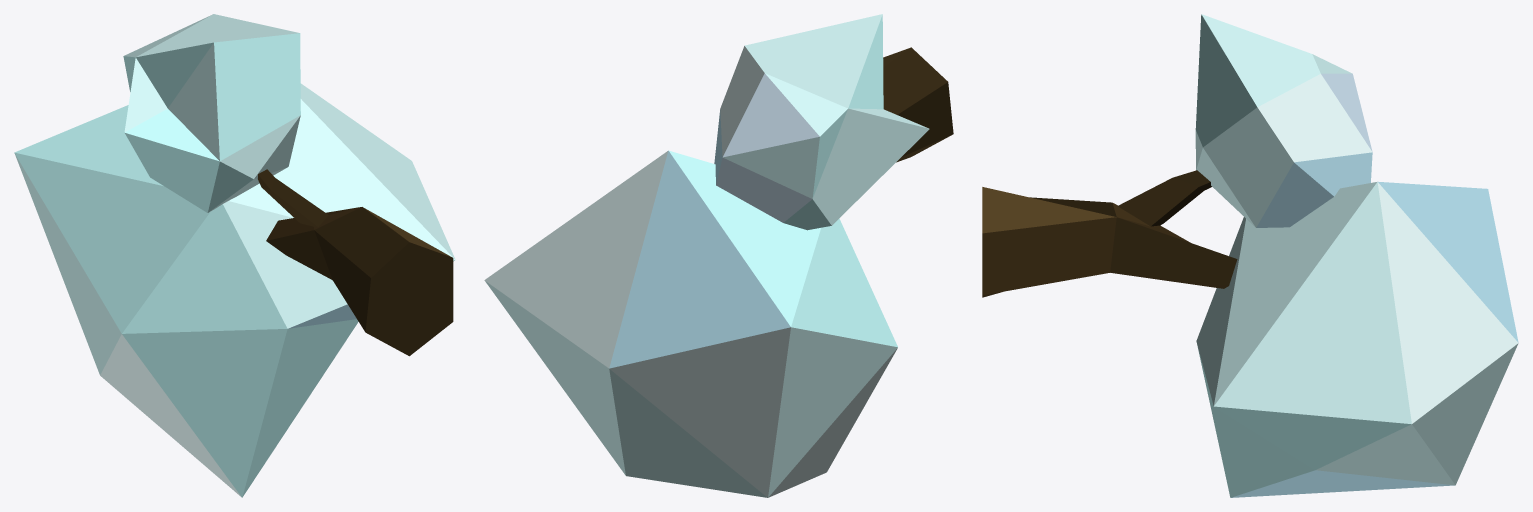
The model's file is winter_tree_6.fbx.
3 views of the same model, side by side, from view 1: azimuth 30°, elevation 25°; view 2: azimuth 150°, elevation 25°; view 3: azimuth 270°, elevation 25° (orthographic). The views are drawn at different scales.
Visible parts, largest first — view 1: winter_tree_6; view 2: winter_tree_6; view 3: winter_tree_6.
Boxes of the visible parts, x1=… form: winter_tree_6: x1=14, y1=14, x2=455, y2=497; winter_tree_6: x1=484, y1=14, x2=953, y2=497; winter_tree_6: x1=982, y1=14, x2=1518, y2=497.
Size of the model in its own units: 96 by 116 by 122.
